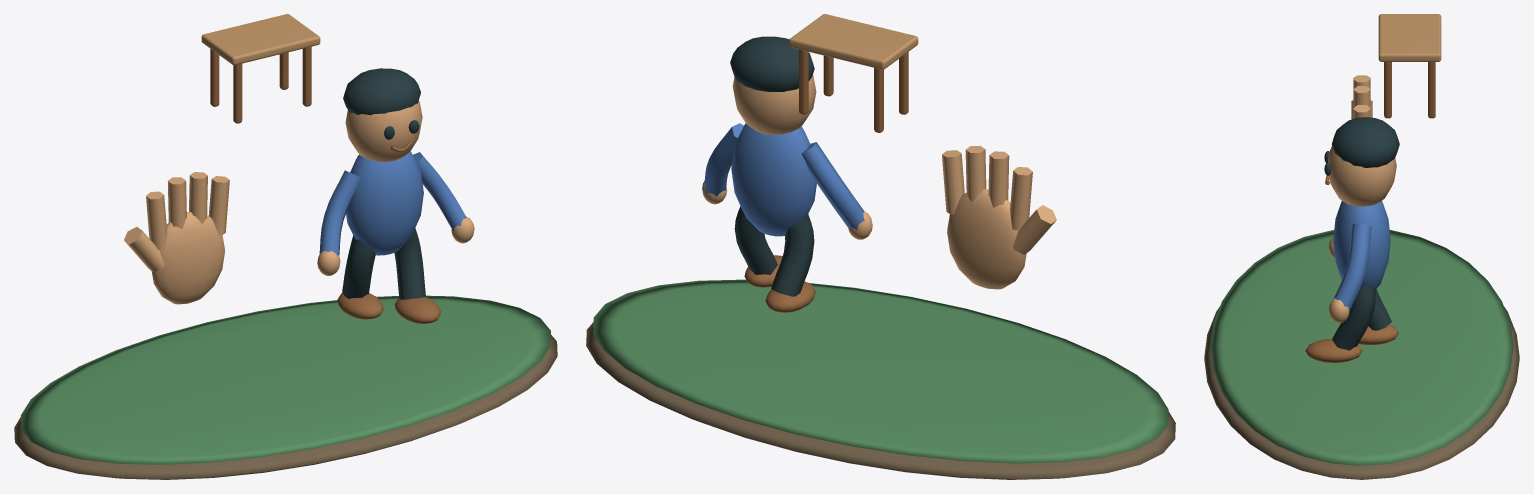
Rendered from complete-third-cared-for-guest.glb.
3 renders of one model, left to right at view 1: azimuth 30°, elevation 25°; view 2: azimuth 150°, elevation 25°; view 3: azimuth 270°, elevation 25°, orthographic. The views are drawn at different scales.
Parts seen in each view (by area): view 1: complete-third-cared-for-guest_surface_01, complete-third-cared-for-guest_surface_02, complete-third-cared-for-guest_surface_00, complete-third-cared-for-guest_surface_05, complete-third-cared-for-guest_surface_03, complete-third-cared-for-guest_surface_04, complete-third-cared-for-guest_surface_06; view 2: complete-third-cared-for-guest_surface_01, complete-third-cared-for-guest_surface_02, complete-third-cared-for-guest_surface_00, complete-third-cared-for-guest_surface_05, complete-third-cared-for-guest_surface_03, complete-third-cared-for-guest_surface_06, complete-third-cared-for-guest_surface_04; view 3: complete-third-cared-for-guest_surface_01, complete-third-cared-for-guest_surface_00, complete-third-cared-for-guest_surface_03, complete-third-cared-for-guest_surface_05, complete-third-cared-for-guest_surface_02, complete-third-cared-for-guest_surface_06, complete-third-cared-for-guest_surface_04.
Part boxes in pixels (<box>): complete-third-cared-for-guest_surface_01: <box>20,295,551,464</box>; complete-third-cared-for-guest_surface_02: <box>124,100,474,304</box>; complete-third-cared-for-guest_surface_00: <box>14,335,557,479</box>; complete-third-cared-for-guest_surface_05: <box>319,151,466,255</box>; complete-third-cared-for-guest_surface_03: <box>342,68,425,299</box>; complete-third-cared-for-guest_surface_04: <box>210,46,440,323</box>; complete-third-cared-for-guest_surface_06: <box>201,14,320,65</box>; complete-third-cared-for-guest_surface_01: <box>593,279,1168,463</box>; complete-third-cared-for-guest_surface_02: <box>702,74,1056,289</box>; complete-third-cared-for-guest_surface_00: <box>586,322,1175,479</box>; complete-third-cared-for-guest_surface_05: <box>704,123,864,236</box>; complete-third-cared-for-guest_surface_03: <box>730,36,814,296</box>; complete-third-cared-for-guest_surface_06: <box>789,14,918,69</box>; complete-third-cared-for-guest_surface_04: <box>744,49,908,312</box>; complete-third-cared-for-guest_surface_01: <box>1210,230,1513,465</box>; complete-third-cared-for-guest_surface_00: <box>1204,306,1519,479</box>; complete-third-cared-for-guest_surface_03: <box>1324,117,1399,350</box>; complete-third-cared-for-guest_surface_05: <box>1333,201,1390,311</box>; complete-third-cared-for-guest_surface_02: <box>1328,75,1396,323</box>; complete-third-cared-for-guest_surface_06: <box>1378,14,1441,61</box>; complete-third-cared-for-guest_surface_04: <box>1305,62,1435,362</box>.
Size of the model in its own units: 4.56 by 2.97 by 2.5.
